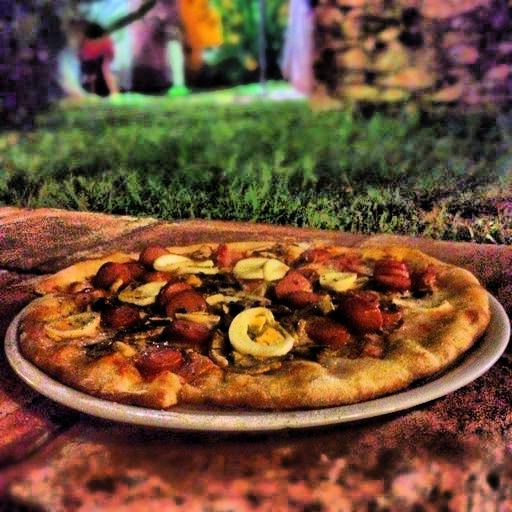pizza: (14, 224, 491, 421)
